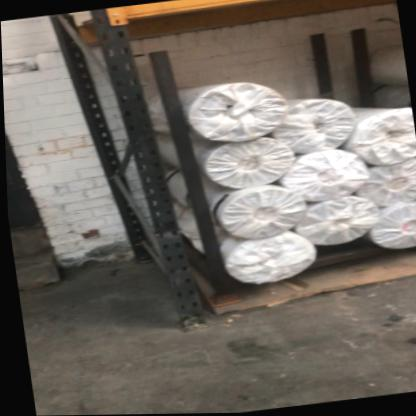vertical_damage: (139, 198, 189, 262)
